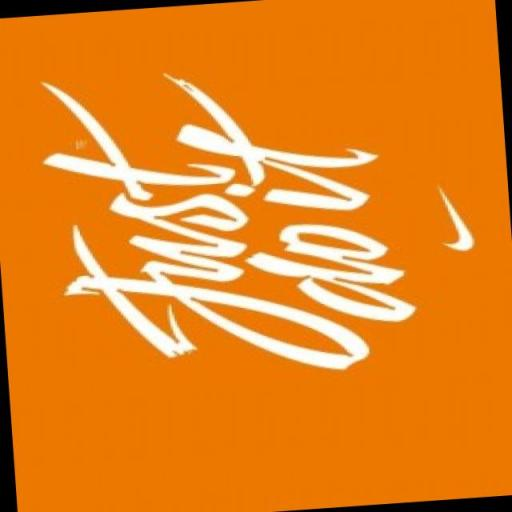Nike: (426, 174, 488, 256)
